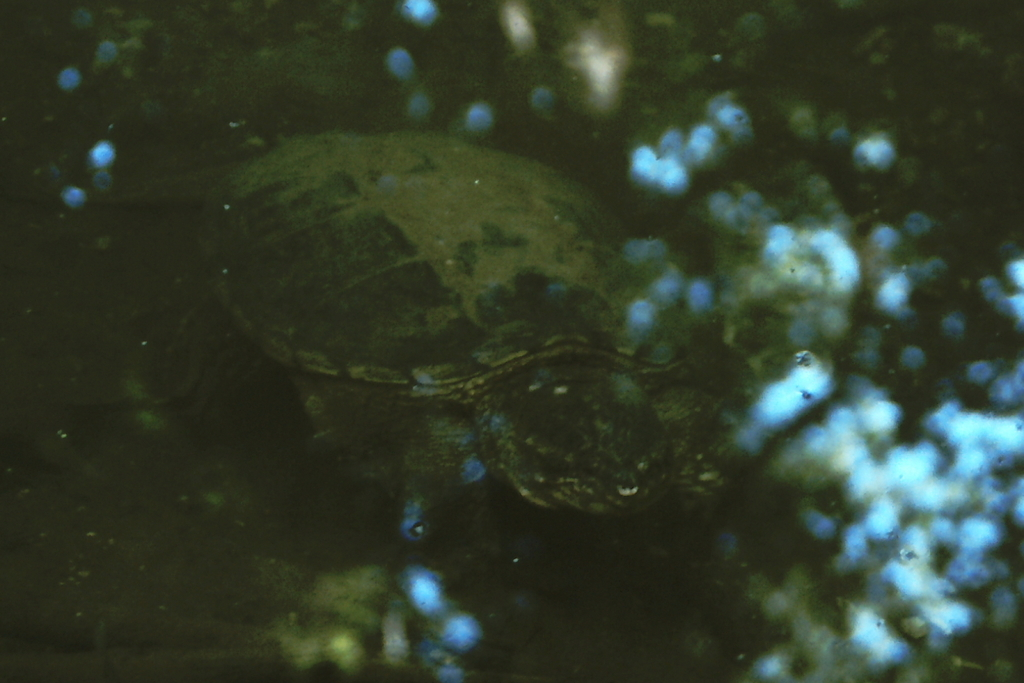Sea turtles: (89, 128, 756, 558)
